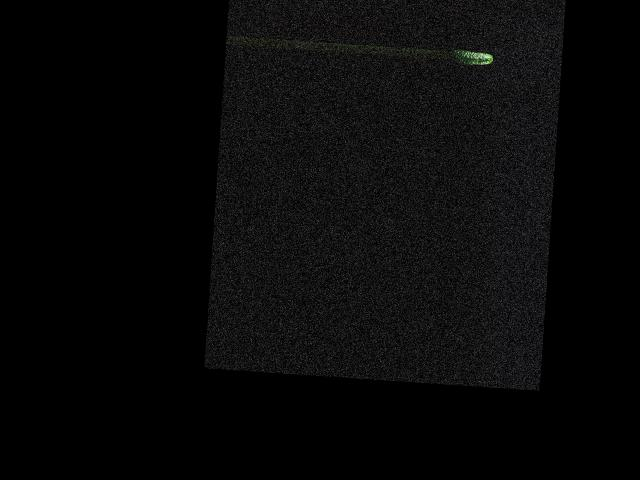cucumber: (451, 48, 493, 65)
